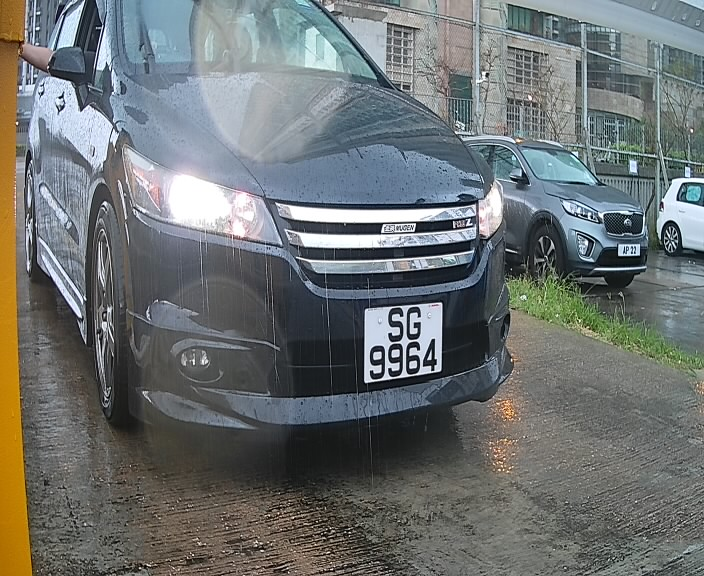Car: (2, 2, 540, 465)
License Plate: (352, 290, 451, 394)
